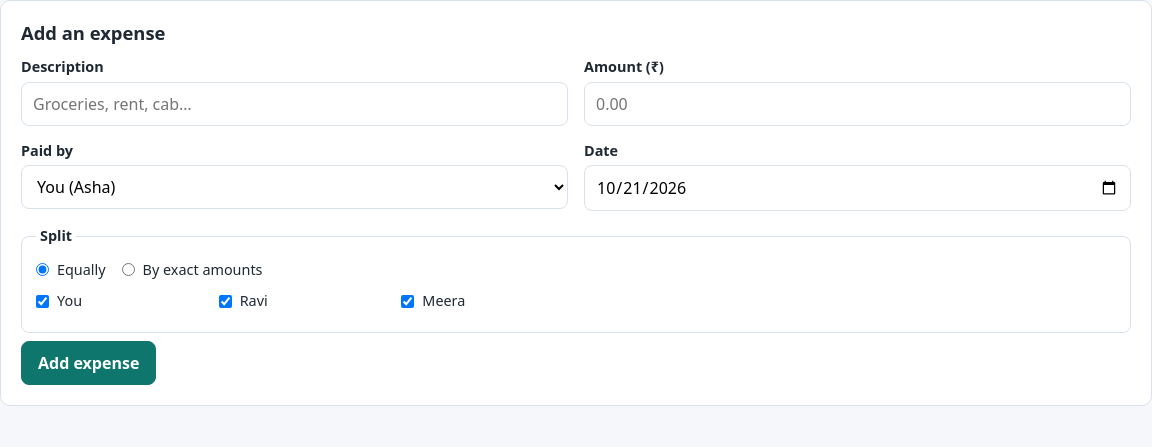
Test case: ExpenseForm › checks the description and amount before sending
The image size is (1152, 447).
In the field labelled "Amount (₹)": (858, 104) [584,82,1131,126], type "12.345"
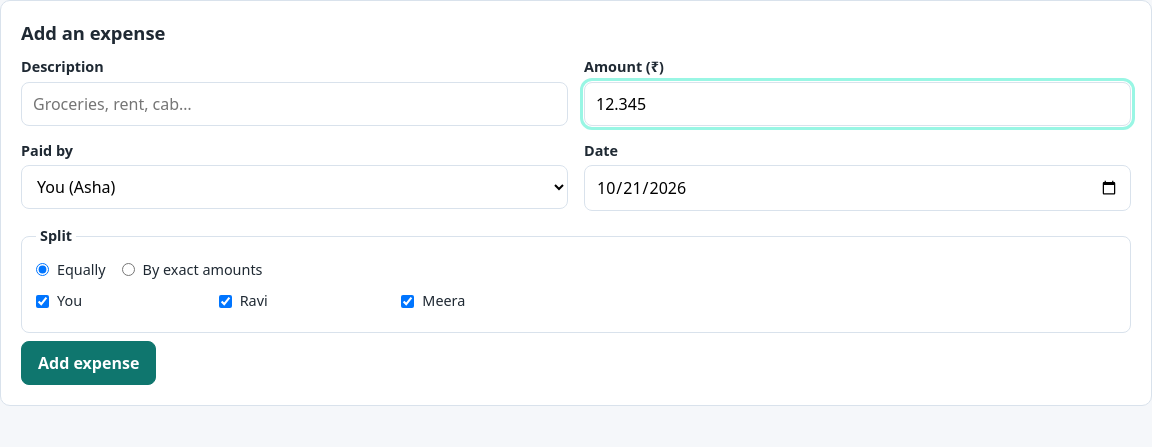
Click the button "Add expense": (89, 363) [21,341,156,385]
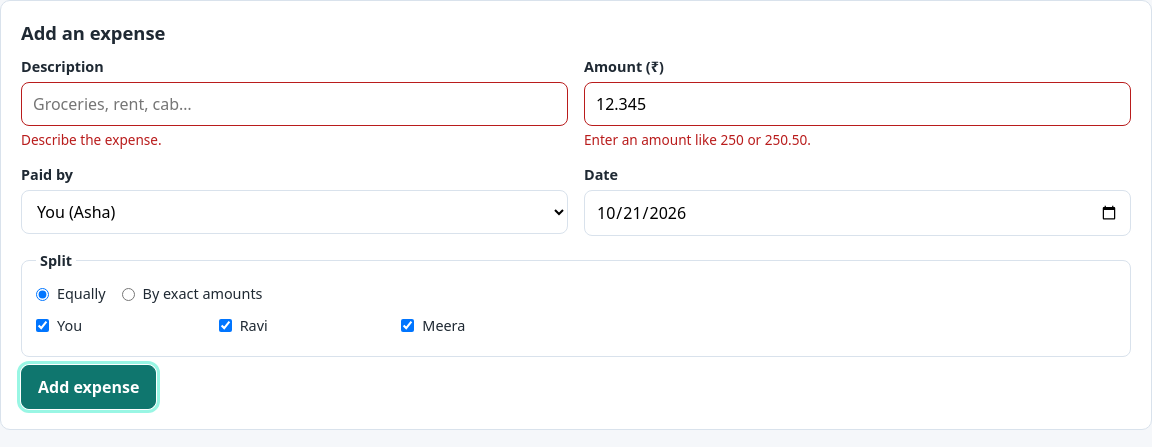
Check: the text "Describe the expense." is shown, box [21,130,162,149]
Check: the text "Enter an amount like 250 or 250.50." is shown, box [584,130,811,149]
